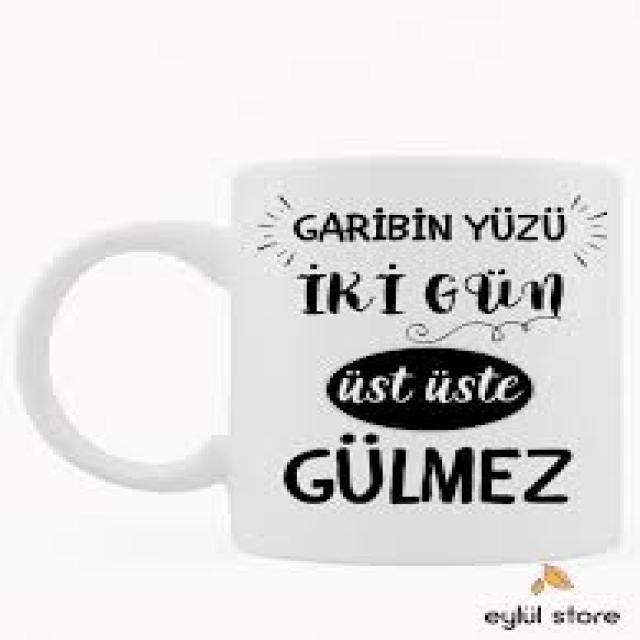taza: (17, 155, 640, 566)
